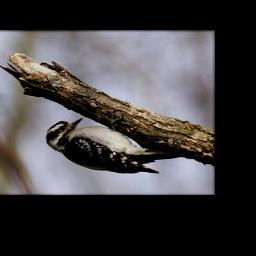Woodpecker: (37, 115, 184, 179)
